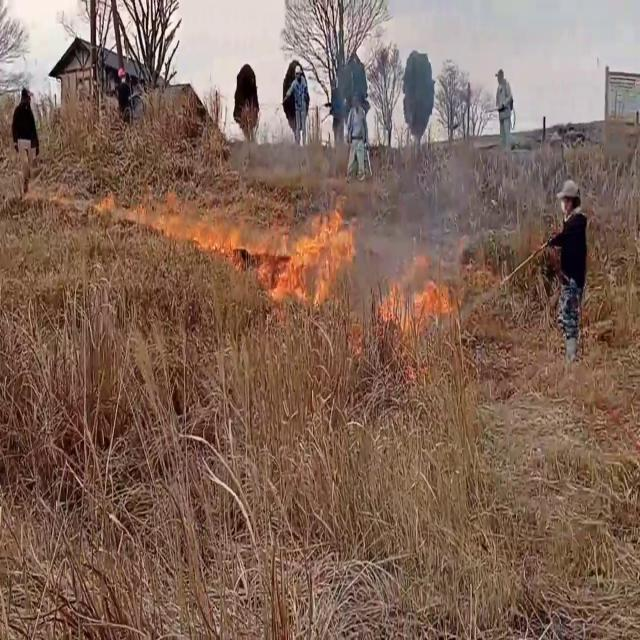Fire: (278, 194, 362, 300), (89, 186, 195, 256), (374, 256, 456, 337), (196, 202, 276, 272)
